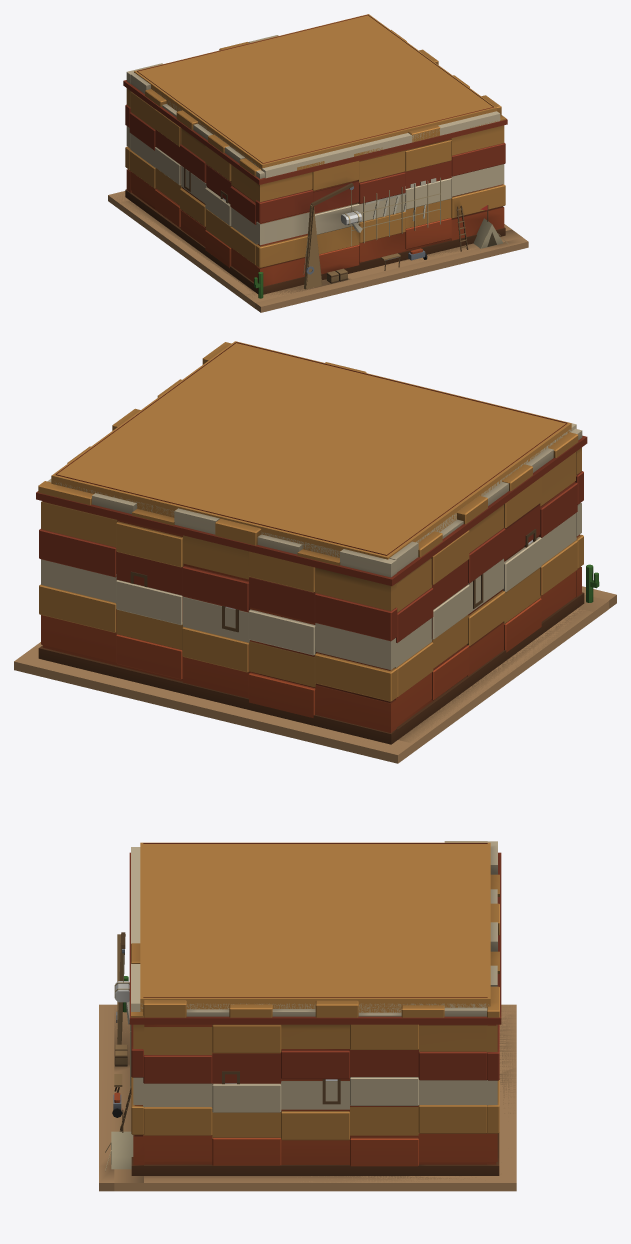
File: TriceratopsSkullFloor.fbx
The picture shows the model from 3 angles, top to bottom: view 1: azimuth 30°, elevation 25°; view 2: azimuth 150°, elevation 25°; view 3: azimuth 270°, elevation 25°; orthographic projection. The views are drawn at different scales.
Visible parts, largest first — view 1: DG_S_All, DG_F_Rings, DG_F_Quiet, DG_F_Smooth, DG_F_Props; view 2: DG_F_Rings, DG_S_All, DG_F_Quiet, DG_F_Smooth; view 3: DG_S_All, DG_F_Rings, DG_F_Quiet, DG_F_Smooth, DG_F_Props.
Part boxes in pixels (x1,y1,x2,y2): DG_S_All: [108, 14, 511, 308]; DG_F_Rings: [125, 14, 505, 294]; DG_F_Quiet: [109, 80, 527, 306]; DG_F_Smooth: [123, 41, 528, 312]; DG_F_Props: [258, 186, 502, 283]; DG_F_Rings: [38, 342, 584, 744]; DG_S_All: [14, 341, 608, 763]; DG_F_Quiet: [36, 435, 616, 745]; DG_F_Smooth: [36, 358, 616, 717]; DG_S_All: [114, 842, 516, 1191]; DG_F_Rings: [131, 841, 499, 1175]; DG_F_Quiet: [99, 852, 516, 1182]; DG_F_Smooth: [99, 904, 501, 1191]; DG_F_Props: [111, 976, 133, 1169].
Size of the model in its own units: 60 by 20 by 60.
